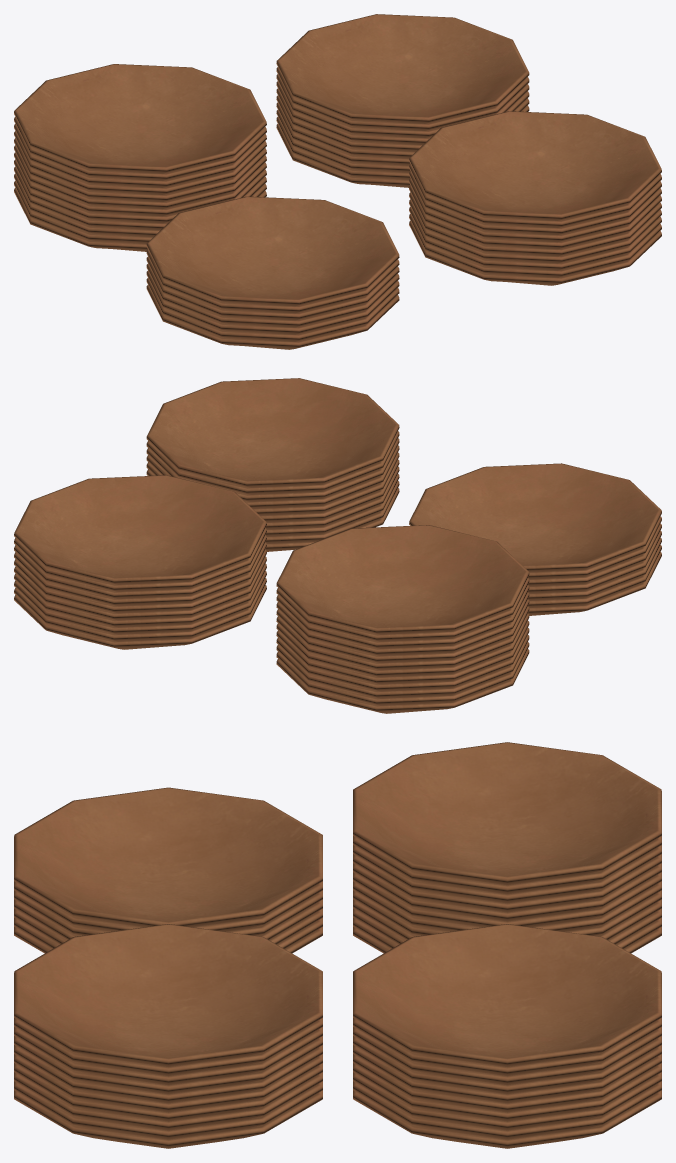
File: SoupPlateGroup.fbx
The picture shows the model from 3 angles, top to bottom: view 1: azimuth 30°, elevation 25°; view 2: azimuth 150°, elevation 25°; view 3: azimuth 270°, elevation 25°; orthographic projection. The views are drawn at different scales.
Parts seen in each view (by area): view 1: SoupPlate38, SoupPlate18, SoupPlate32, SoupPlate11, SoupPlate12, SoupPlate35, SoupPlate39, SoupPlate31, SoupPlate9, SoupPlate8, SoupPlate10, SoupPlate17 (+27 smaller); view 2: SoupPlate32, SoupPlate38, SoupPlate11, SoupPlate18, SoupPlate, SoupPlate47, SoupPlate31, SoupPlate39, SoupPlate7, SoupPlate6, SoupPlate5, SoupPlate8 (+27 smaller); view 3: SoupPlate11, SoupPlate32, SoupPlate38, SoupPlate18, SoupPlate28, SoupPlate35, SoupPlate42, SoupPlate47, SoupPlate24, SoupPlate46, SoupPlate25, SoupPlate45 (+27 smaller).
Boxes of the visible parts, <box> form: SoupPlate38: <box>276,14,529,123</box>; SoupPlate18: <box>146,196,399,306</box>; SoupPlate32: <box>409,111,661,220</box>; SoupPlate11: <box>14,64,266,173</box>; SoupPlate12: <box>146,285,399,349</box>; SoupPlate35: <box>409,221,661,285</box>; SoupPlate39: <box>276,67,529,130</box>; SoupPlate31: <box>409,164,661,227</box>; SoupPlate9: <box>14,124,266,187</box>; SoupPlate8: <box>14,131,266,194</box>; SoupPlate10: <box>14,117,266,180</box>; SoupPlate17: <box>146,250,399,313</box>; SoupPlate32: <box>146,378,399,487</box>; SoupPlate38: <box>14,475,266,584</box>; SoupPlate11: <box>276,525,529,634</box>; SoupPlate18: <box>409,463,661,572</box>; SoupPlate: <box>276,649,529,713</box>; SoupPlate47: <box>14,585,266,649</box>; SoupPlate31: <box>146,431,399,494</box>; SoupPlate39: <box>14,528,266,591</box>; SoupPlate7: <box>276,599,529,662</box>; SoupPlate6: <box>276,606,529,670</box>; SoupPlate5: <box>276,614,529,677</box>; SoupPlate8: <box>276,592,529,655</box>; SoupPlate11: <box>353,742,661,885</box>; SoupPlate32: <box>14,924,322,1066</box>; SoupPlate38: <box>353,924,661,1066</box>; SoupPlate18: <box>14,787,322,927</box>; SoupPlate28: <box>14,1045,322,1103</box>; SoupPlate35: <box>14,1090,322,1148</box>; SoupPlate42: <box>353,1045,661,1103</box>; SoupPlate47: <box>353,1090,661,1148</box>; SoupPlate24: <box>14,1081,322,1139</box>; SoupPlate46: <box>353,1081,661,1139</box>; SoupPlate25: <box>14,1072,322,1130</box>; SoupPlate45: <box>353,1072,661,1130</box>.
Size of the model in its own units: 25.53 by 5.68 by 23.23.
